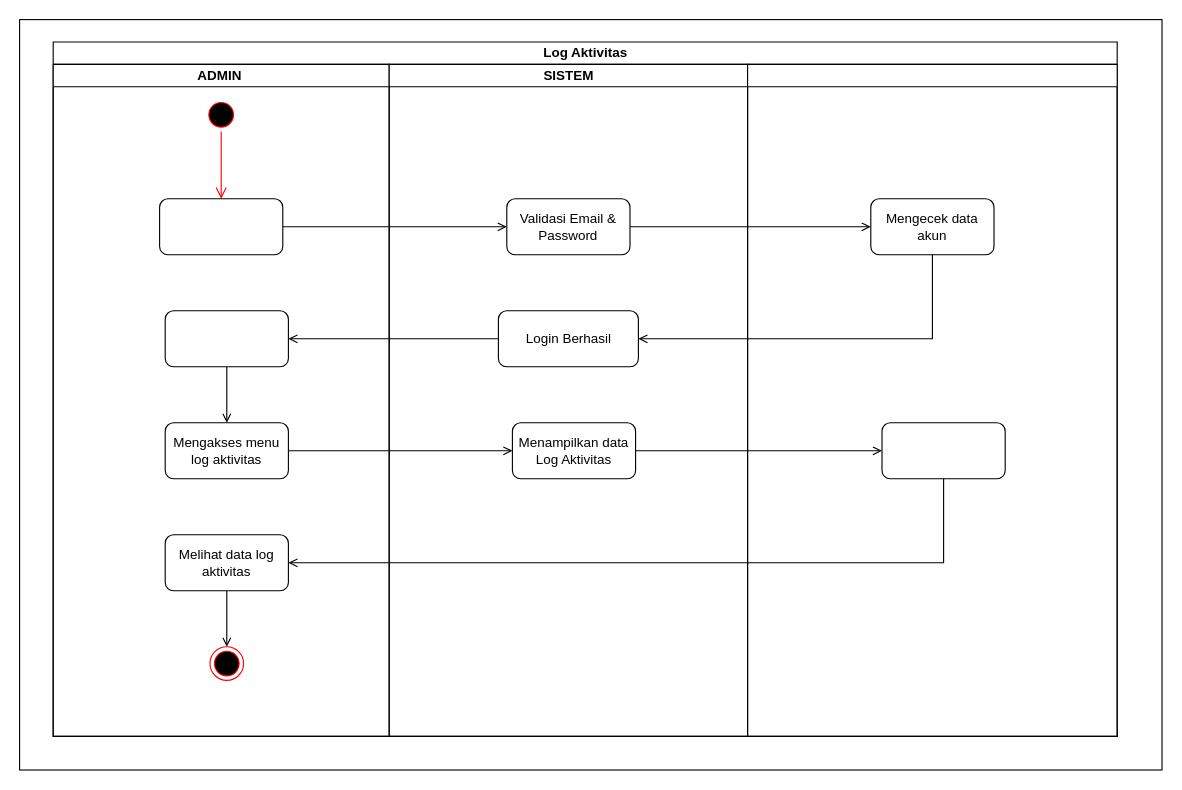
Image size: 1182x790. Some labels were removed from this diagram. Here are the shapes that lost their labels. From the top down, the box of each, then its label:
(158, 198, 283, 255): Melakukan login sebagai "Admin"
(164, 310, 288, 367): Masuk ke Halaman Dashboard
(746, 63, 1117, 736): DATABASE
(881, 422, 1005, 479): Mengambil dan menyimpan Data
